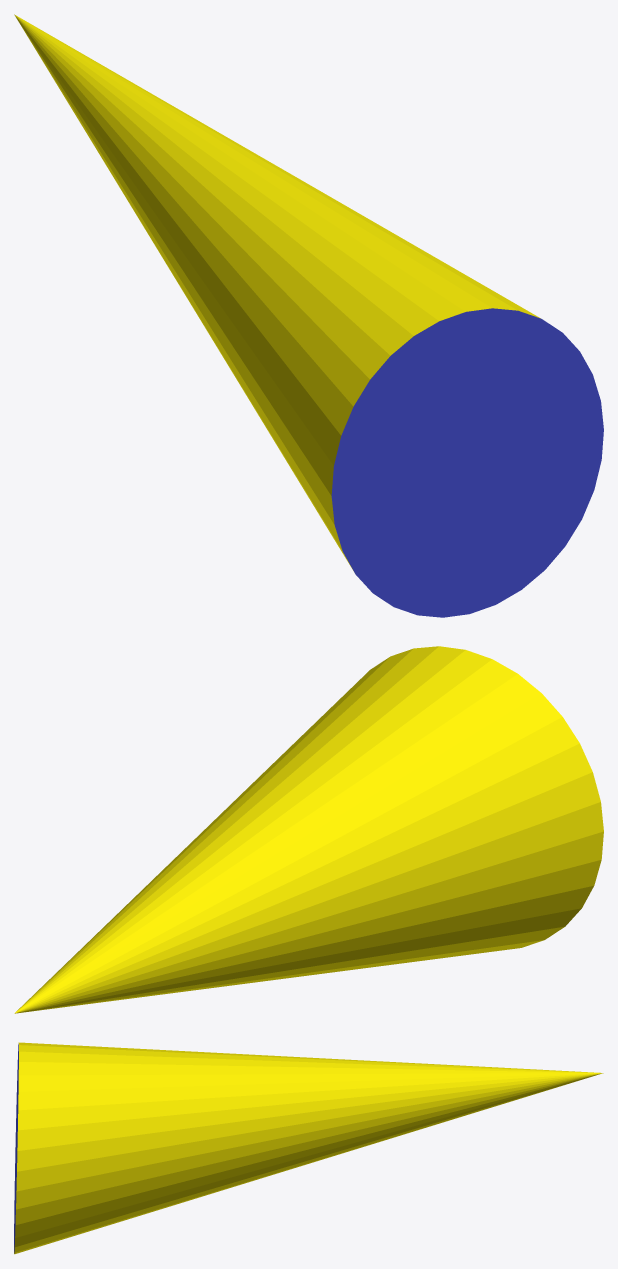
File: yellow_tail.obj
The picture shows the model from 3 angles, top to bottom: view 1: azimuth 30°, elevation 25°; view 2: azimuth 150°, elevation 25°; view 3: azimuth 270°, elevation 25°; orthographic projection. The views are drawn at different scales.
Parts seen in each view (by area): view 1: polySurface28 polySurface18; view 2: polySurface28 polySurface18; view 3: polySurface28 polySurface18.
Boxes of the visible parts, <box> form: polySurface28 polySurface18: <box>14,14,603,617</box>; polySurface28 polySurface18: <box>14,646,603,1013</box>; polySurface28 polySurface18: <box>14,1042,603,1254</box>.
Bounding box in the file's own units: 0.5811 × 0.6105 × 1.68.
1 material, 1 textured.
